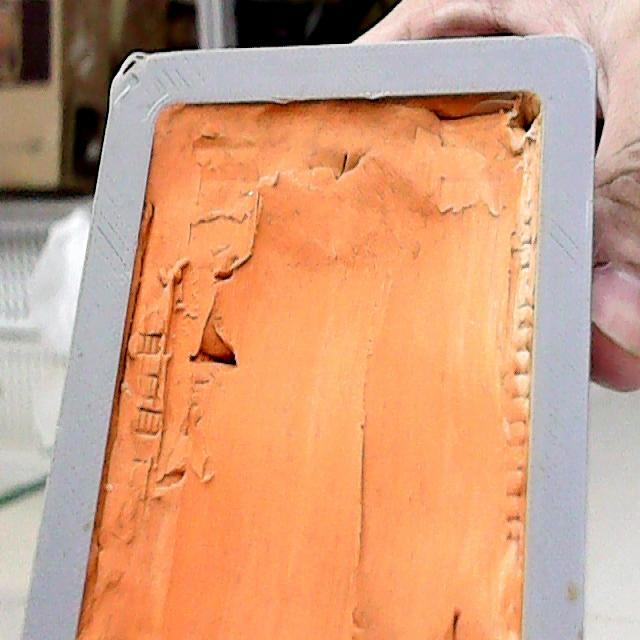block: (42, 46, 590, 622)
